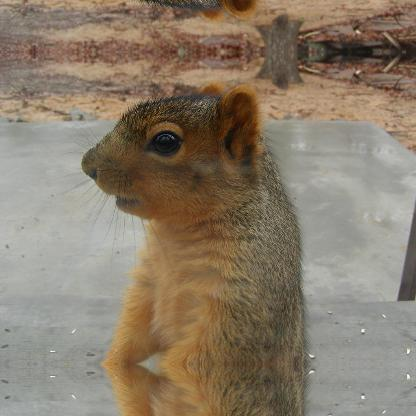Squirrel: (39, 67, 309, 363)
